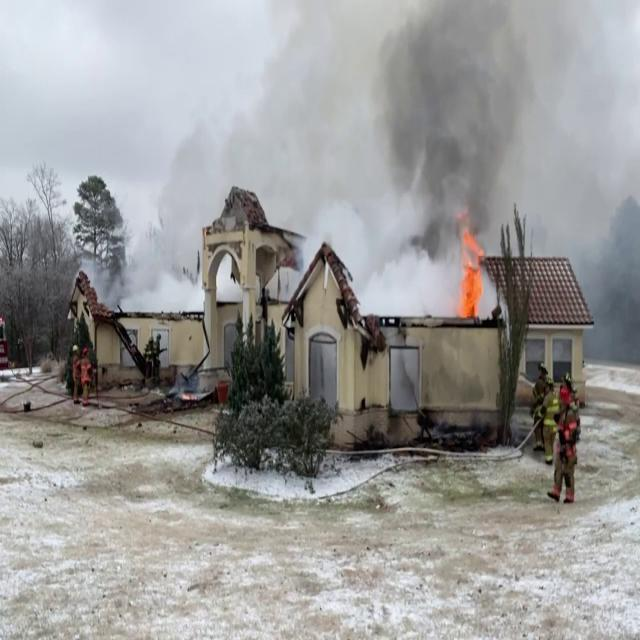Fire: (452, 225, 490, 323)
Smoke: (255, 2, 640, 282), (123, 139, 235, 313)
